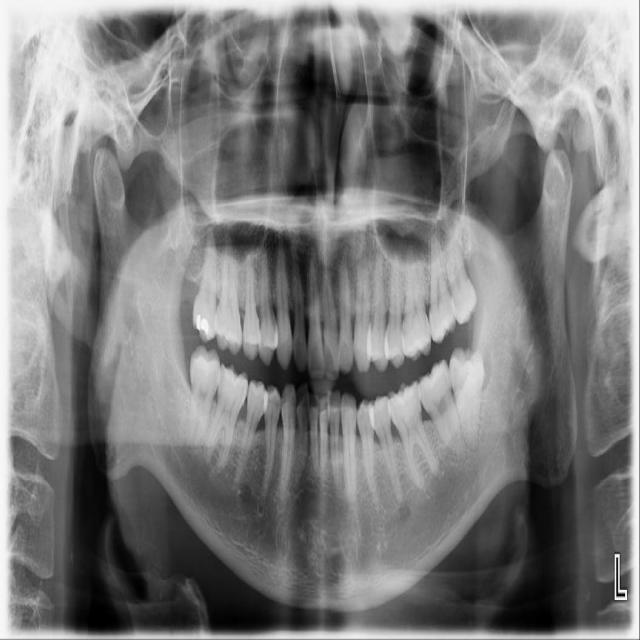Filling: (193, 352, 222, 372), (192, 314, 210, 333)
impacted tooth: (447, 350, 488, 448)
